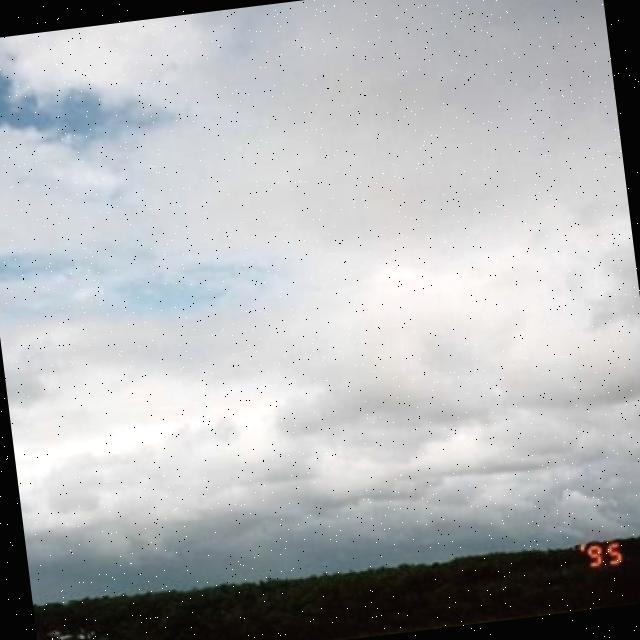Sc: (1, 1, 640, 525)
